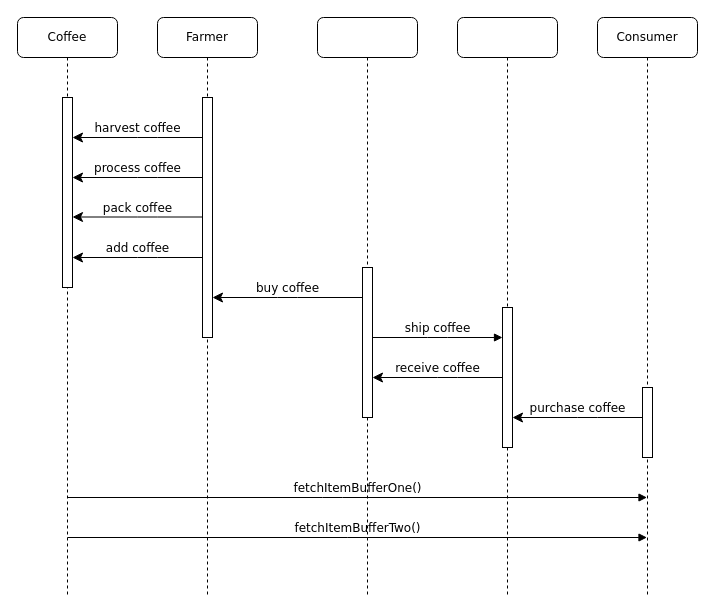
Some shapes in this 715 by 615 pixel diagram are drawn without their labels. The shapes that lost their labels are listed below. From the top down, each one's centre as x and y in pixels, then its label:
At point 367,307: "Distributor".
At point 507,307: "Retailer".
